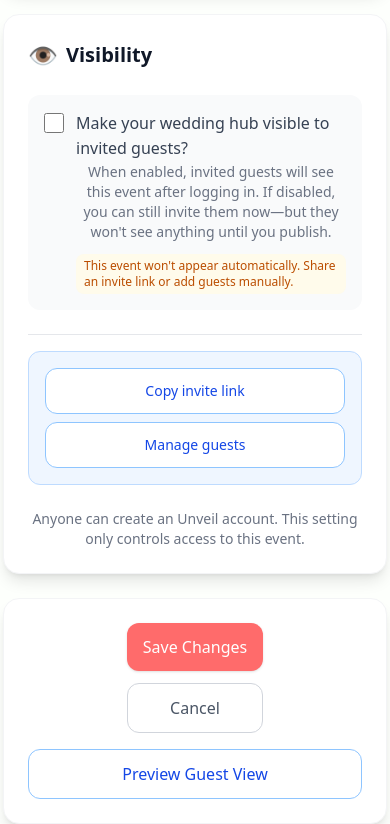
Test: EventDetailsEditor › shows error message after failed save
The width and height of the screenshot is (390, 824).
(page scrolled)
Click the button "Save Changes" at (195,647), box [127,623,263,671]
(page scrolled)
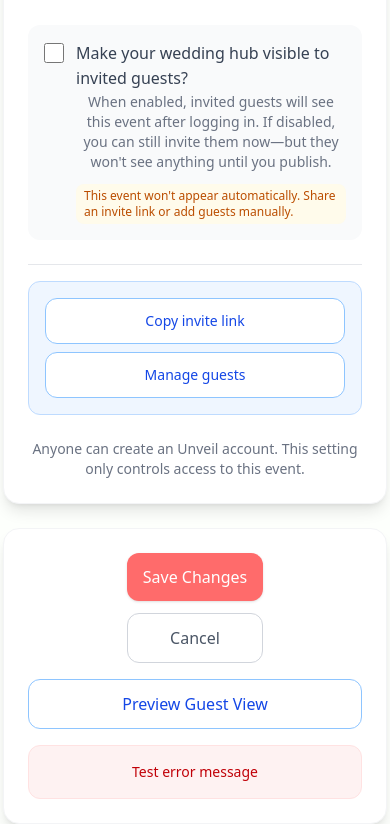
Result: the text "Test error message" is shown at [28,745,362,799]
